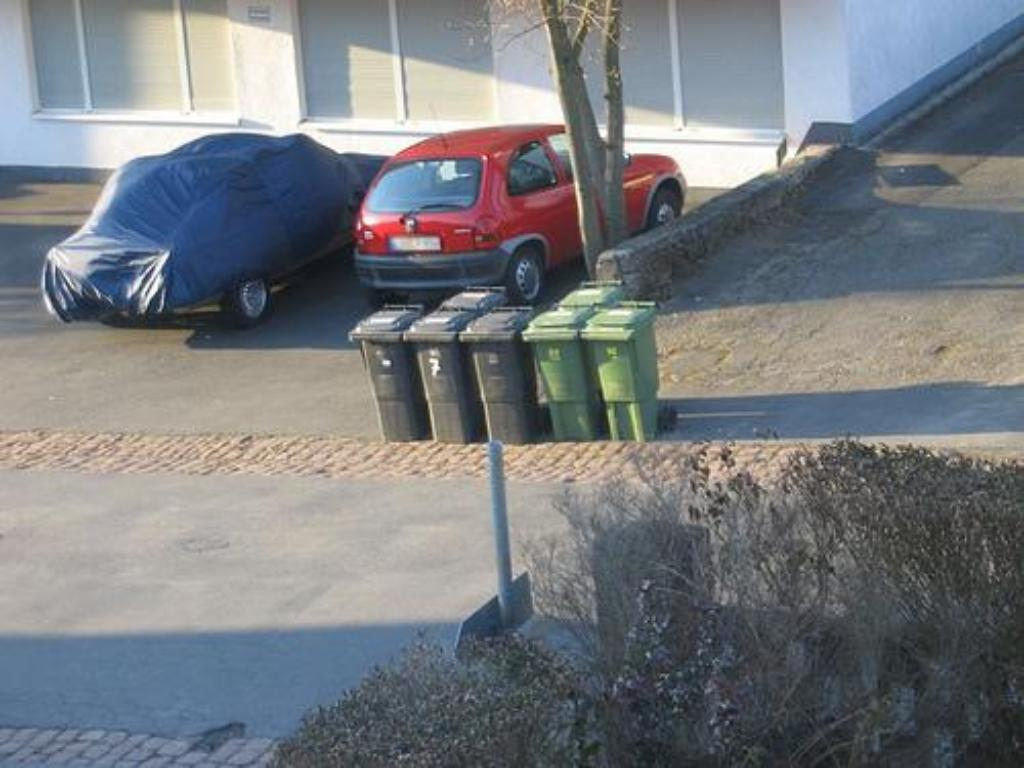dustbin: (341, 291, 682, 452), (576, 299, 674, 442), (345, 293, 432, 449), (402, 295, 485, 443), (522, 292, 607, 431), (466, 299, 542, 441)
